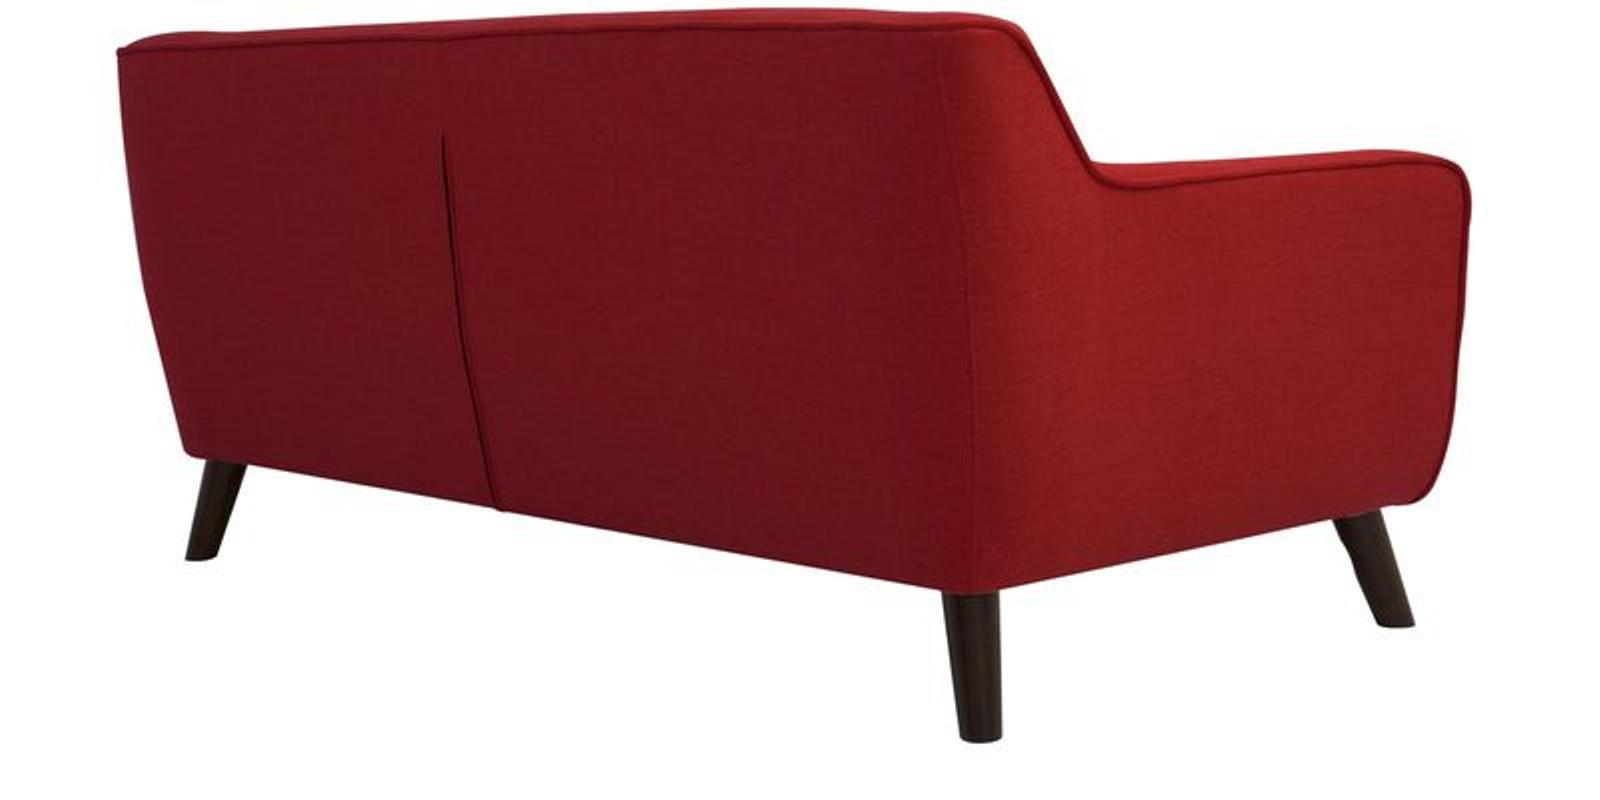Bogota Three Seater Sofa in Red Colour by CasaCraft: (95, 24, 1512, 634)
